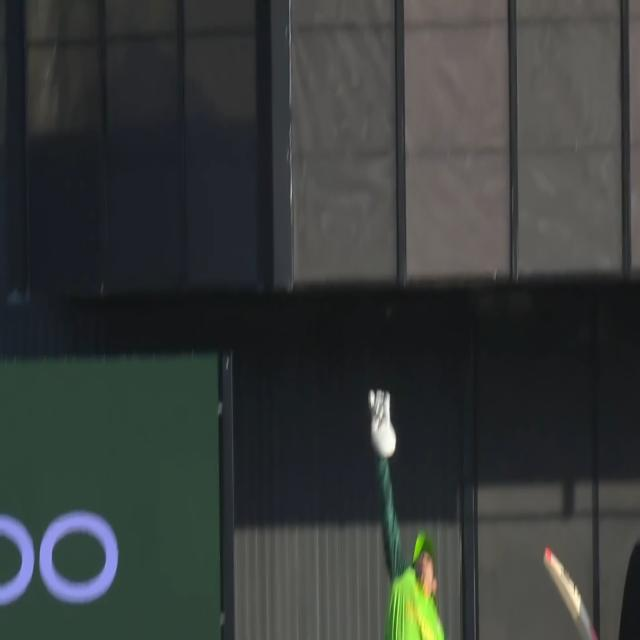ball: (368, 383, 386, 428)
